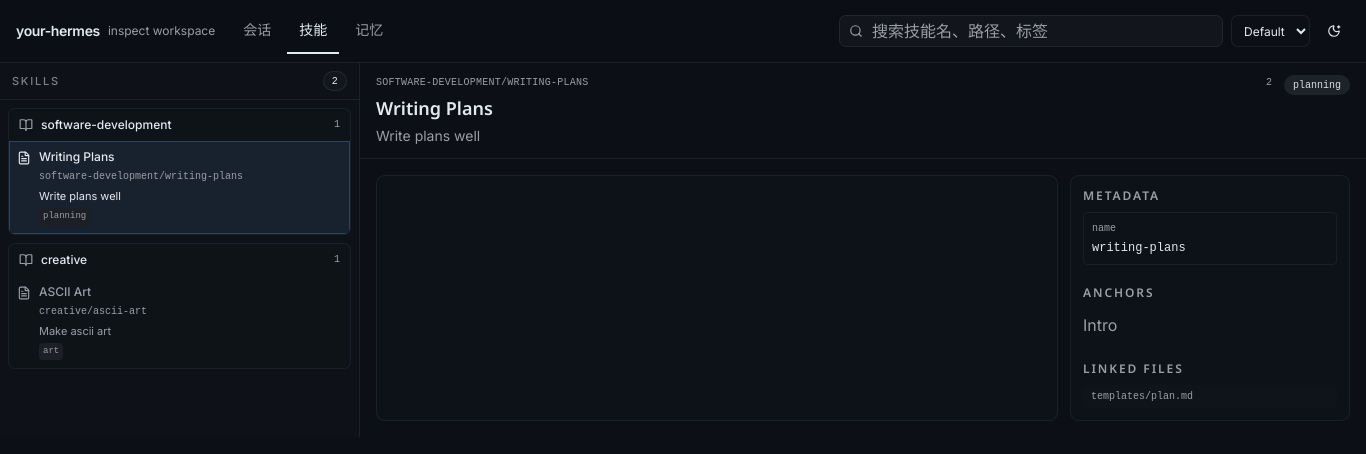
Test: SkillManagementView reloads list and detail when switching profile
Expected: the heading "Writing Plans" is shown, [376,96,493,120]
Select "hetun" in the dropdown named "当前 Hermes profile" at coordinates (1270, 31), box [1231,15,1310,47]
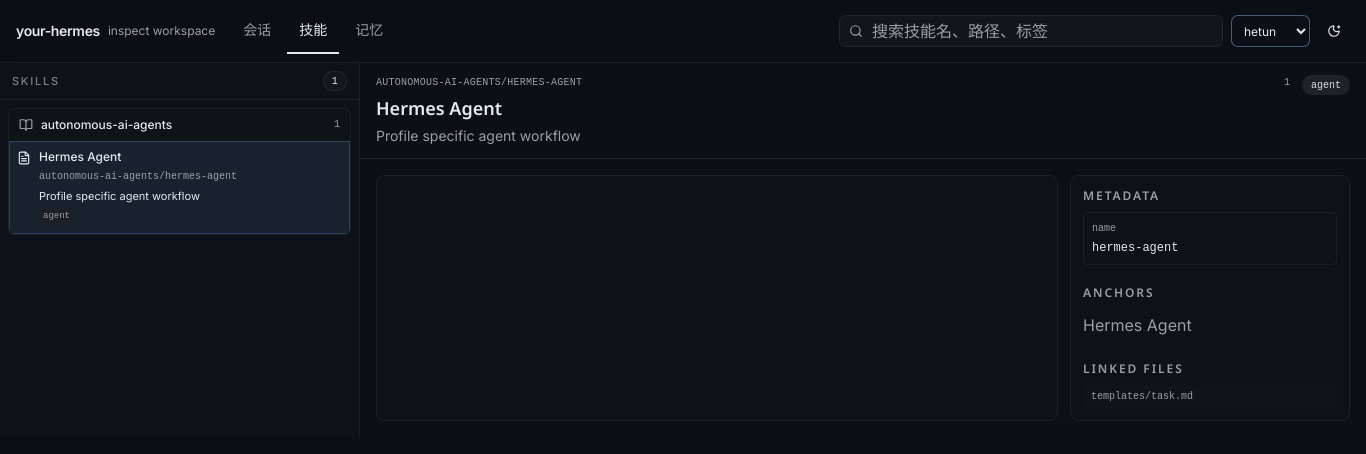
Now the heading "Hermes Agent" is shown, box [376,96,502,120]
